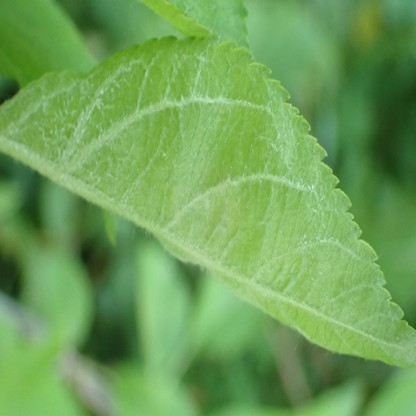powdery_mildew: (2, 37, 416, 371)
